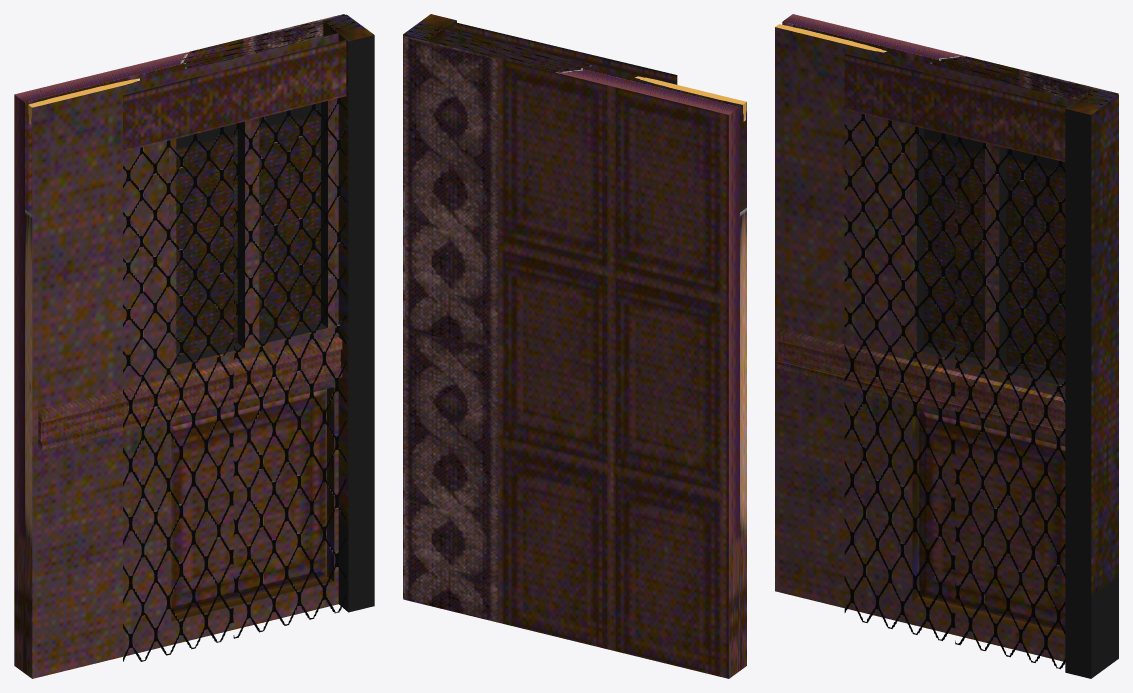
The model's file is ElevatorDoorL.fbx.
3 views of the same model, side by side, from view 1: azimuth 30°, elevation 25°; view 2: azimuth 150°, elevation 25°; view 3: azimuth 330°, elevation 25° (orthographic).
Visible parts, largest first — view 1: Cube.003; view 2: Cube.003; view 3: Cube.003.
Boxes of the visible parts, bbox=[...] form: Cube.003: bbox=[14, 14, 374, 678]; Cube.003: bbox=[403, 14, 746, 678]; Cube.003: bbox=[775, 14, 1118, 678].
Bounding box in the file's own units: 2420 × 3987 × 371.
